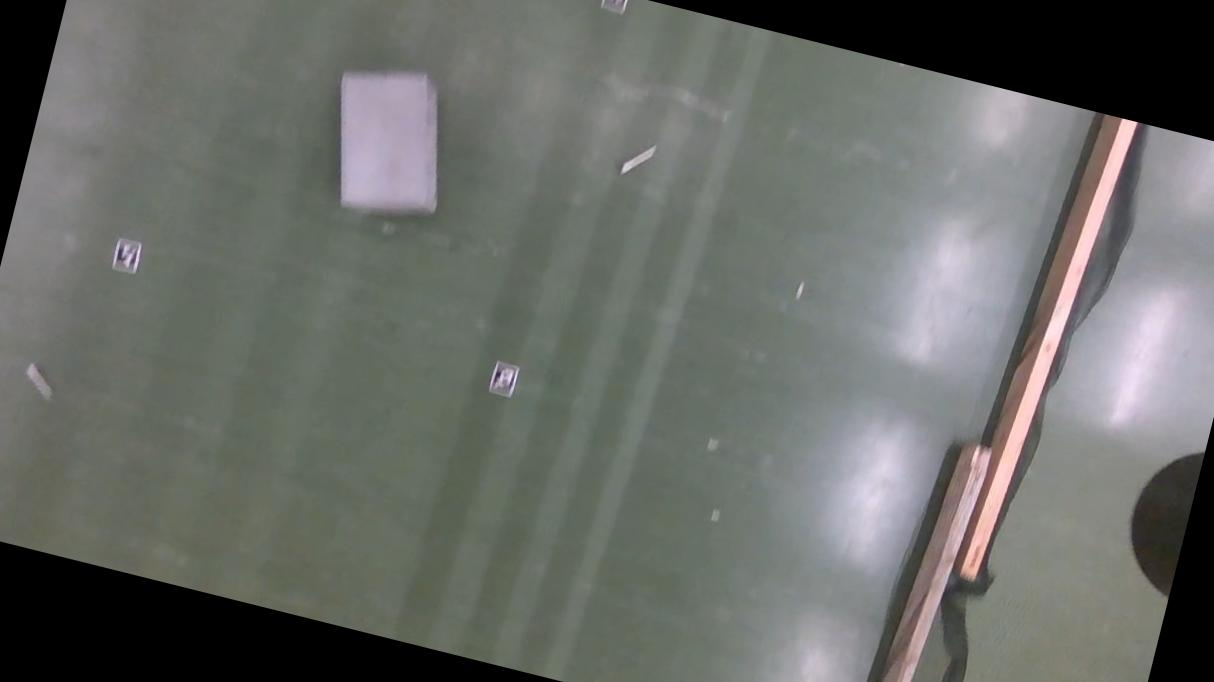probes: (622, 138, 657, 178), (24, 362, 58, 400)
rako: (312, 50, 470, 228)
